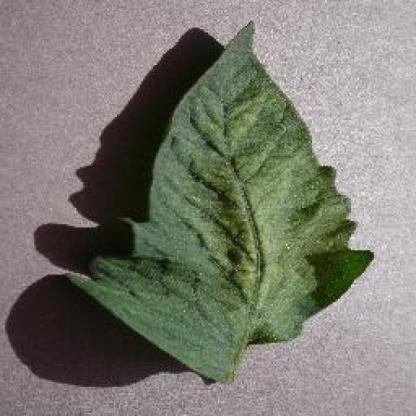Tomato_Spider_Mites: (71, 22, 372, 378)
